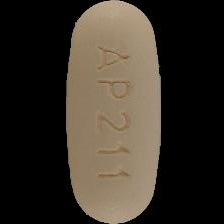69543-135: (0, 0, 224, 224)
